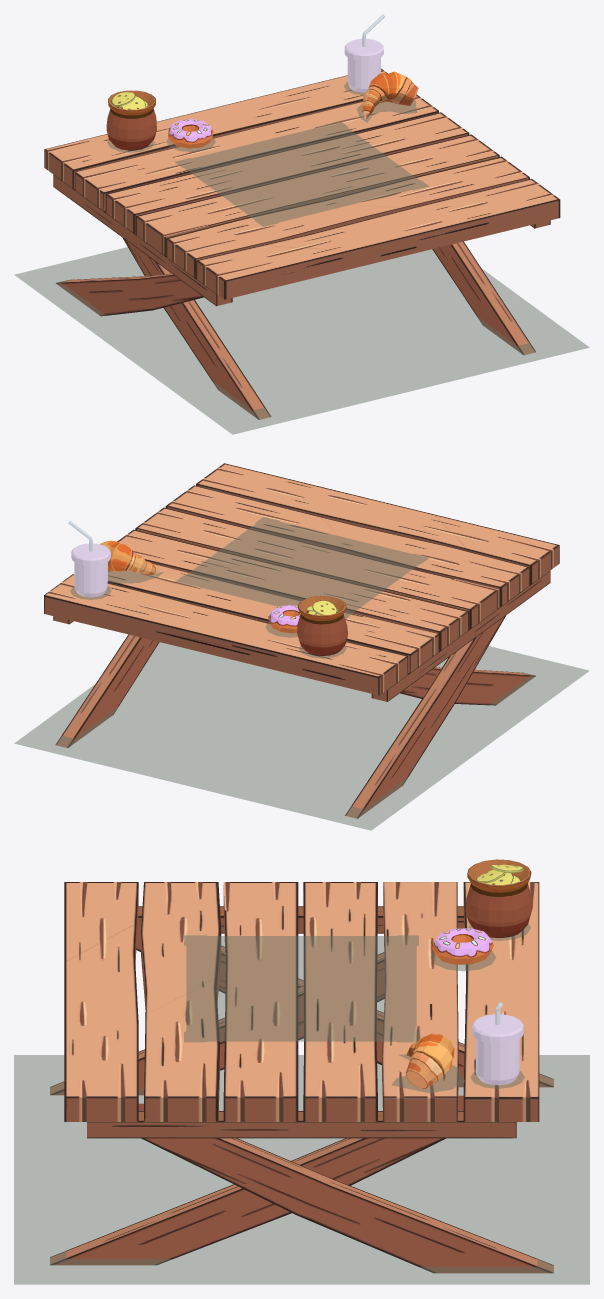
File: DonutLand_Table.glb
3 renders of one model, top to bottom at view 1: azimuth 30°, elevation 25°; view 2: azimuth 150°, elevation 25°; view 3: azimuth 270°, elevation 25°, orthographic. The views are drawn at different scales.
Visible parts, largest first — view 1: DonutLand_Table, DonutLand_Shadow, DonutLand_Table_Shadow, DonutLand_Objects; view 2: DonutLand_Table, DonutLand_Shadow, DonutLand_Table_Shadow, DonutLand_Objects; view 3: DonutLand_Table, DonutLand_Shadow, DonutLand_Table_Shadow, DonutLand_Objects.
Part boxes in pixels (x1,y1,x2,y2): DonutLand_Table: (44, 68, 560, 419); DonutLand_Shadow: (14, 82, 589, 434); DonutLand_Table_Shadow: (175, 121, 429, 226); DonutLand_Objects: (106, 14, 418, 150); DonutLand_Table: (44, 463, 559, 818); DonutLand_Shadow: (14, 570, 589, 830); DonutLand_Table_Shadow: (175, 517, 429, 618); DonutLand_Objects: (68, 520, 347, 655); DonutLand_Table: (50, 882, 553, 1273); DonutLand_Shadow: (14, 924, 589, 1284); DonutLand_Table_Shadow: (184, 935, 418, 1042); DonutLand_Objects: (406, 859, 532, 1088).
Bounding box in the file's own units: 5.28 × 2.94 × 5.6.
3 materials, 3 textured.
